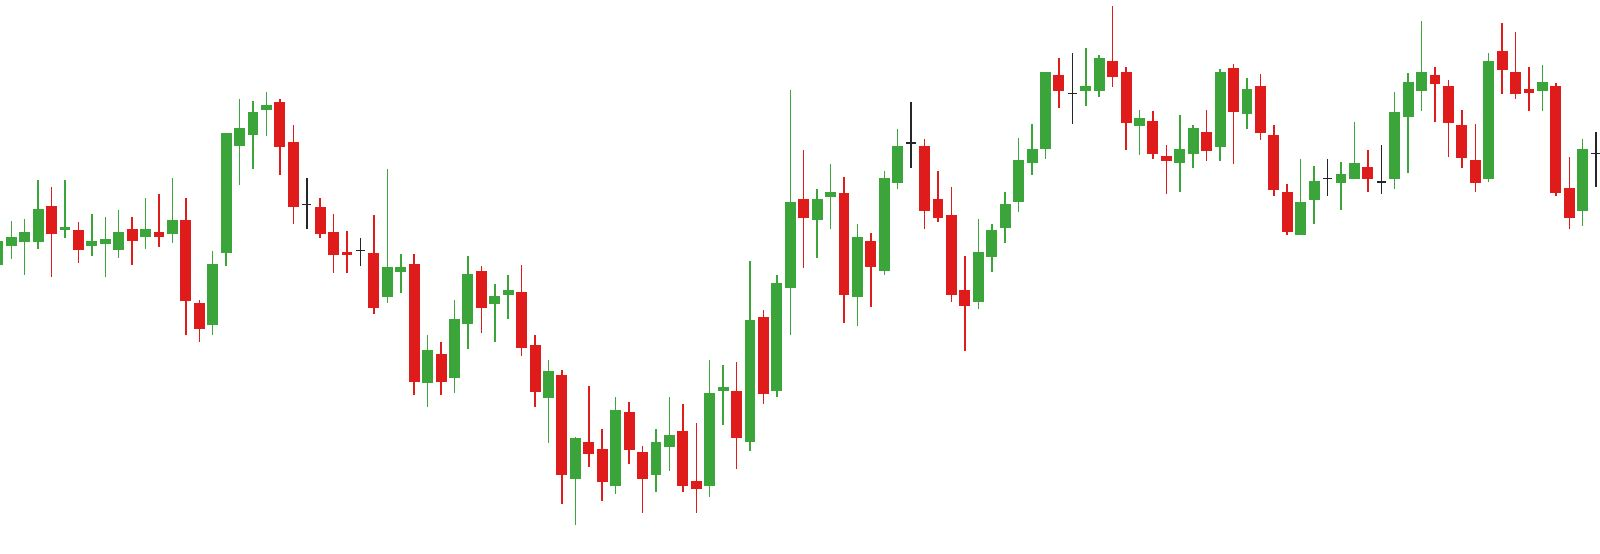buy: (835, 192, 986, 354), (1163, 91, 1323, 236), (1468, 83, 1590, 230)
